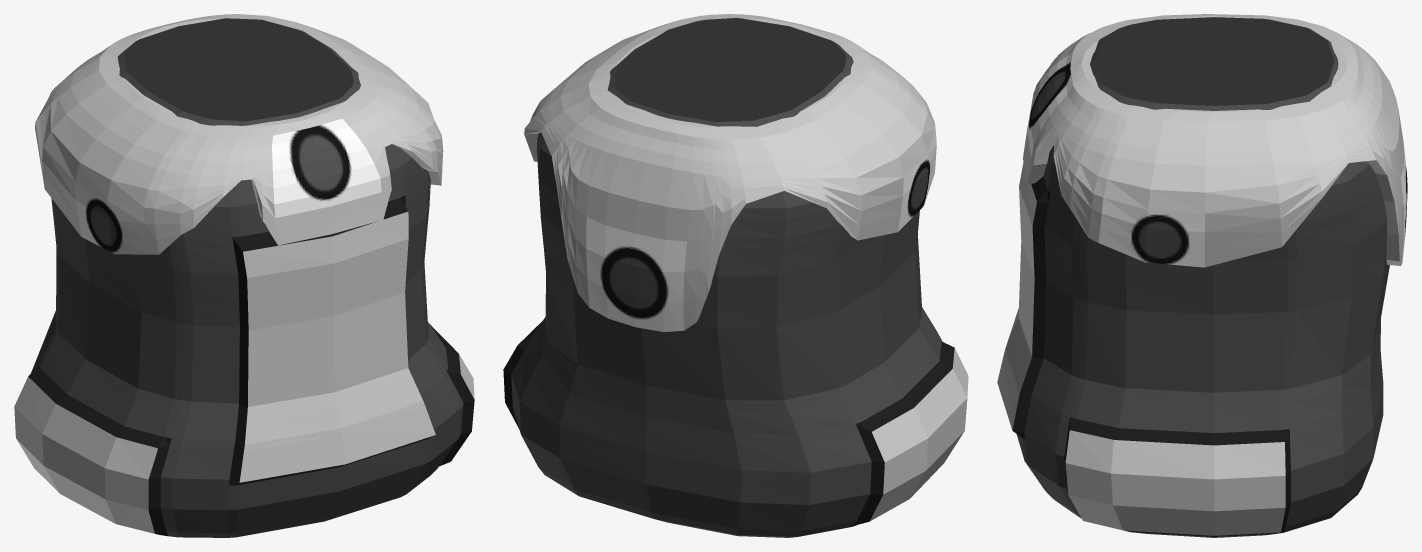
Rendered from person_fat_vacsuit.obj.
3 views of the same model, side by side, from view 1: azimuth 30°, elevation 25°; view 2: azimuth 150°, elevation 25°; view 3: azimuth 270°, elevation 25° (orthographic).
Size of the model in its own units: 0.7656 by 0.75 by 0.684.
